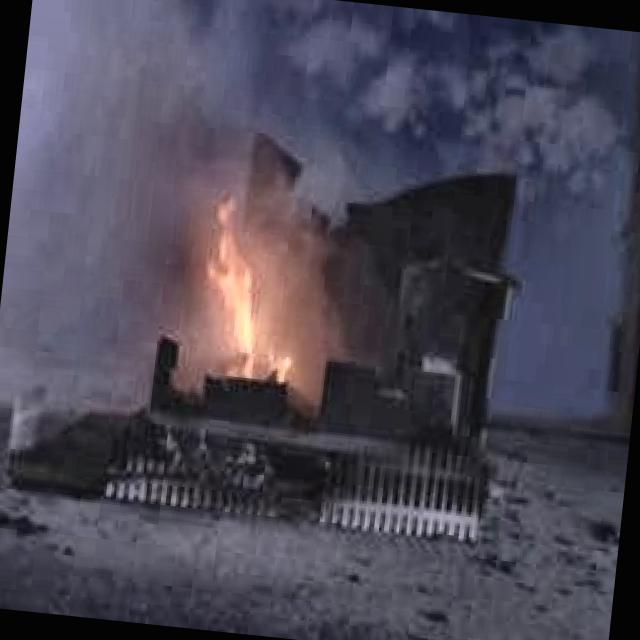fire: (164, 176, 321, 412)
smoke: (10, 0, 289, 235)
